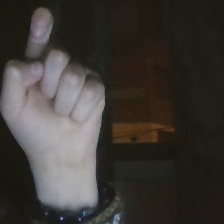X: (1, 1, 119, 176)
